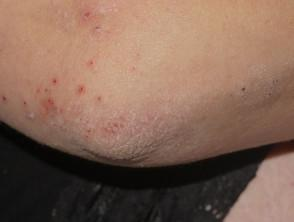Eczema: (18, 77, 87, 118), (230, 66, 287, 111), (71, 2, 119, 41), (81, 118, 135, 144), (83, 49, 110, 71), (92, 91, 110, 108), (0, 89, 12, 108)
